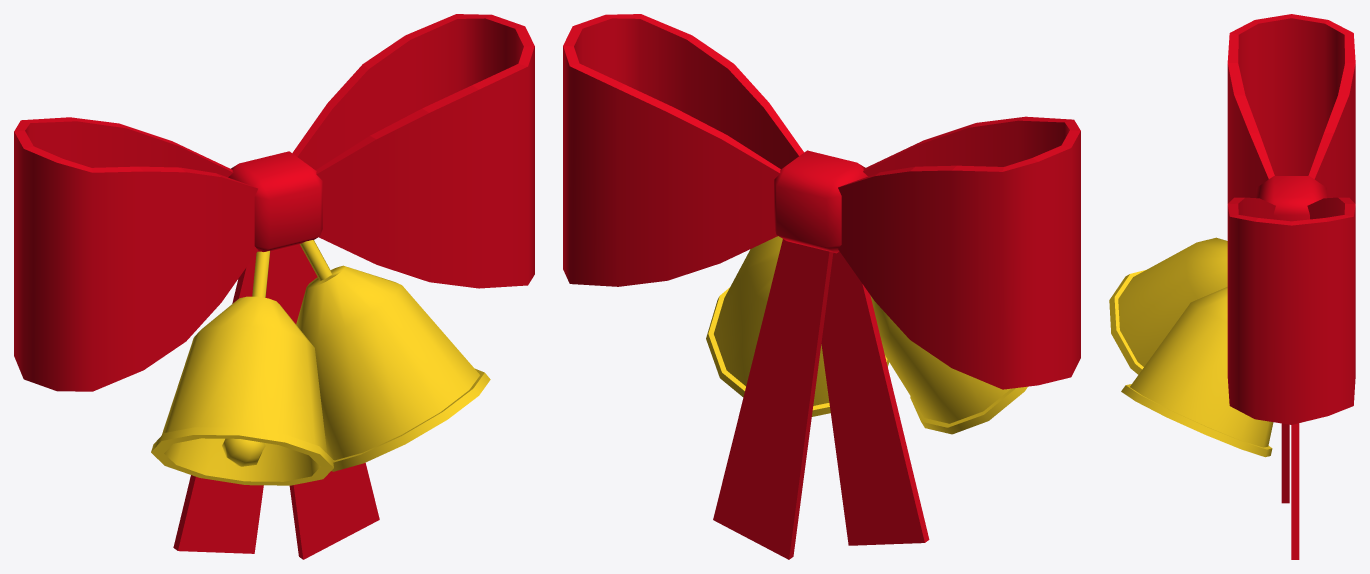
File: Bells_with_Bow_Christmas.fbx
The picture shows the model from 3 angles, left to right: view 1: azimuth 30°, elevation 25°; view 2: azimuth 150°, elevation 25°; view 3: azimuth 270°, elevation 25°; orthographic projection. The views are drawn at different scales.
Visible parts, largest first — view 1: Bells_with_Bow_Christmas; view 2: Bells_with_Bow_Christmas; view 3: Bells_with_Bow_Christmas.
Boxes of the visible parts, x1=… form: Bells_with_Bow_Christmas: x1=14, y1=14, x2=534, y2=559; Bells_with_Bow_Christmas: x1=563, y1=14, x2=1080, y2=559; Bells_with_Bow_Christmas: x1=1109, y1=14, x2=1355, y2=559.
Size of the model in its own units: 85.02 by 77.65 by 41.83.
